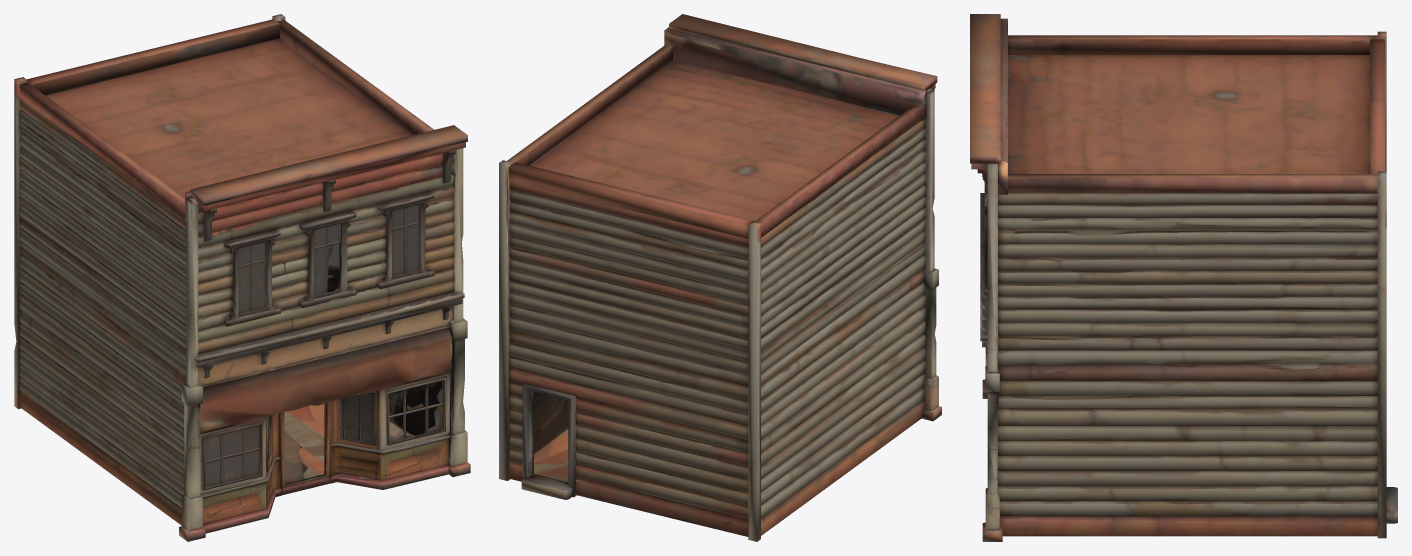
The model's file is house_3.fbx.
3 views of the same model, side by side, from view 1: azimuth 30°, elevation 25°; view 2: azimuth 150°, elevation 25°; view 3: azimuth 270°, elevation 25° (orthographic). The views are drawn at different scales.
Parts seen in each view (by area): view 1: input; view 2: input; view 3: input.
Part boxes in pixels (left/top/right/bottom): input: left=14, top=14, right=470, bottom=541; input: left=499, top=14, right=941, bottom=541; input: left=970, top=14, right=1397, bottom=541.
Size of the model in its own units: 169 by 197 by 200.
1 material, 1 textured.
